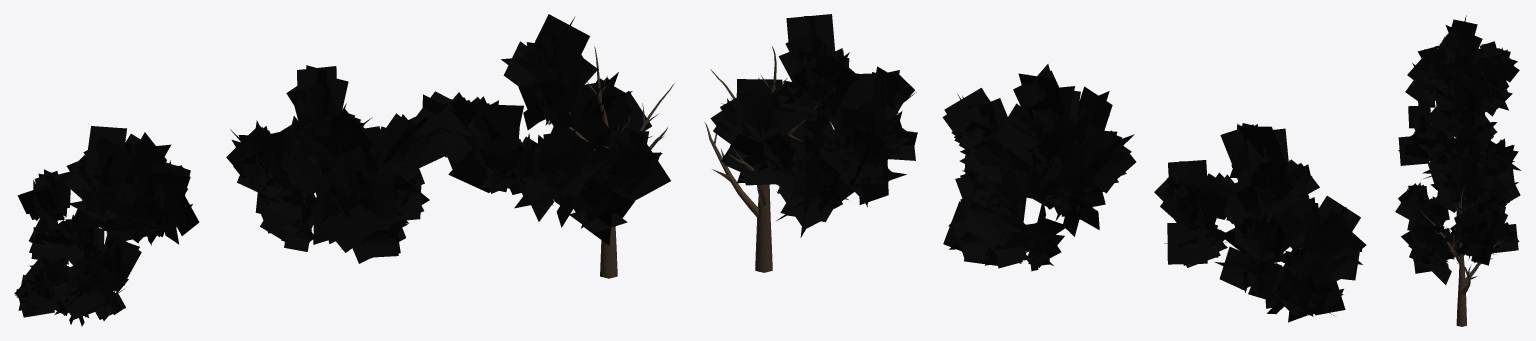
File: no_leaves_tree_eight.glb
3 renders of one model, left to right at view 1: azimuth 30°, elevation 25°; view 2: azimuth 150°, elevation 25°; view 3: azimuth 270°, elevation 25°, orthographic. The views are drawn at different scales.
Visible parts, largest first — view 1: leaves.004_9.007, leaves.003_6.007, leaves.002_3.007, trunk.003_7.007; view 2: leaves.004_9.007, leaves.003_6.007, leaves.002_3.007, trunk.003_7.007; view 3: leaves.004_9.007, leaves.003_6.007, leaves.002_3.007, trunk.003_7.007.
Part boxes in pixels (x1,y1,x2,y2): leaves.004_9.007: [417, 14, 670, 245]; leaves.003_6.007: [226, 65, 450, 263]; leaves.002_3.007: [14, 126, 199, 326]; trunk.003_7.007: [568, 46, 674, 278]; leaves.004_9.007: [710, 14, 917, 237]; leaves.003_6.007: [942, 64, 1136, 271]; leaves.002_3.007: [1154, 123, 1366, 322]; trunk.003_7.007: [704, 46, 819, 272]; leaves.004_9.007: [1395, 147, 1520, 284]; leaves.003_6.007: [1398, 76, 1520, 209]; leaves.002_3.007: [1405, 15, 1519, 116]; trunk.003_7.007: [1421, 185, 1504, 326].
Size of the model in its own units: 301 by 122 by 85.99.
Materials: 3 (3 with a texture image).
